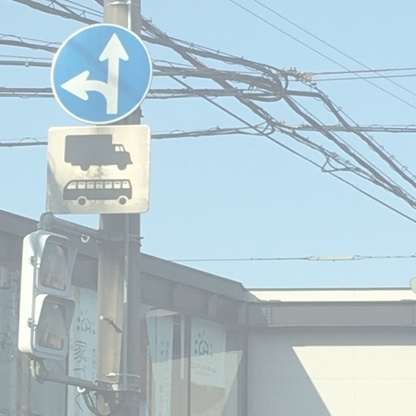Direction_sign: (46, 23, 165, 127)
